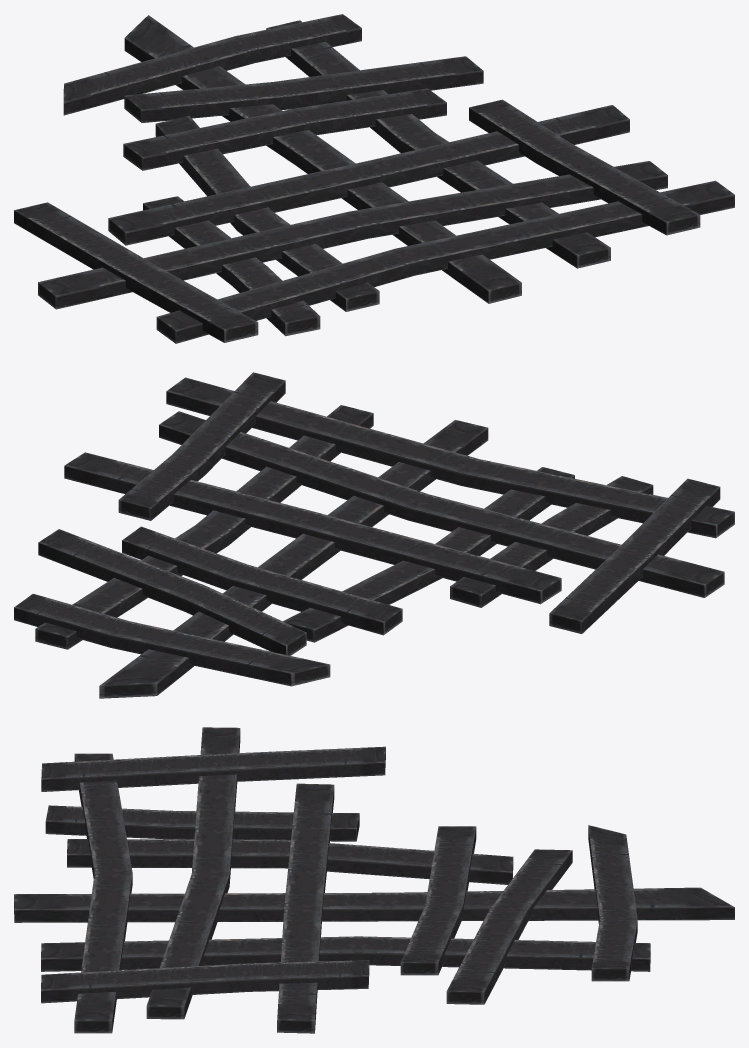
Rendered from 10504_IronRail11.FBX.
3 renders of one model, top to bottom at view 1: azimuth 30°, elevation 25°; view 2: azimuth 150°, elevation 25°; view 3: azimuth 270°, elevation 25°, orthographic. The views are drawn at different scales.
Visible parts, largest first — view 1: 10504_IronRail11; view 2: 10504_IronRail11; view 3: 10504_IronRail11.
Part boxes in pixels (x1=…): 10504_IronRail11: x1=14, y1=14, x2=734, y2=343; 10504_IronRail11: x1=14, y1=372, x2=734, y2=698; 10504_IronRail11: x1=14, y1=727, x2=734, y2=1033.
Size of the model in its own units: 536 by 20.33 by 557.
